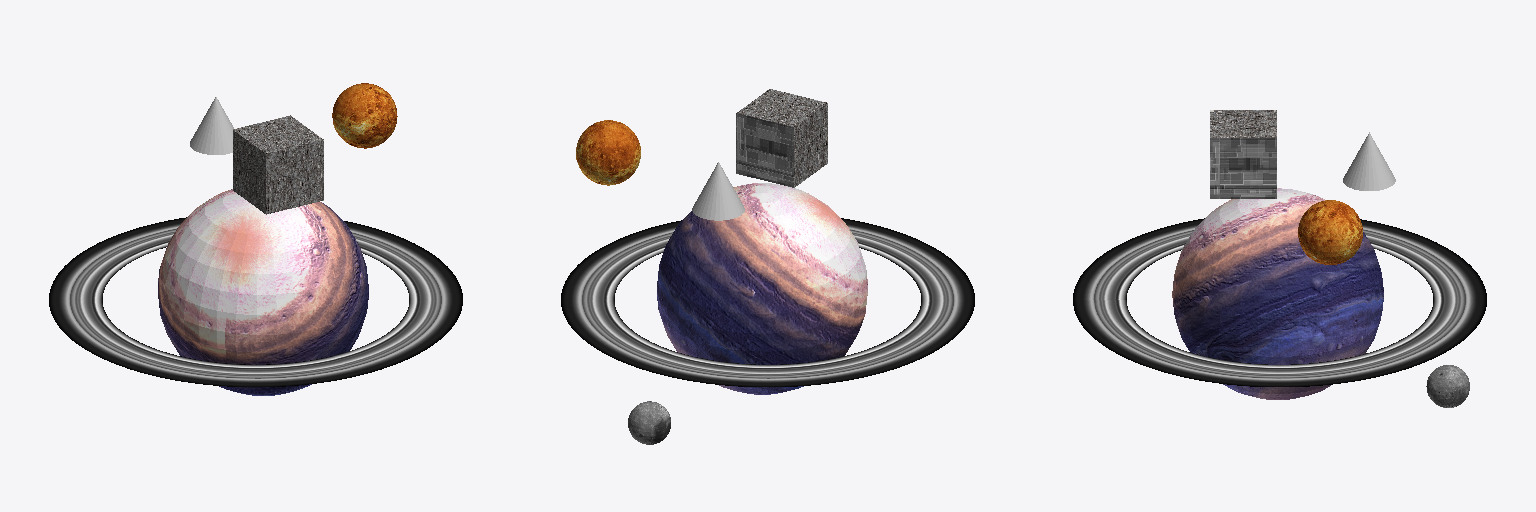
The picture shows the model from 3 angles: view 1: azimuth 30°, elevation 25°; view 2: azimuth 150°, elevation 25°; view 3: azimuth 270°, elevation 25°; orthographic projection.
Parts seen in each view (by area): view 1: Planet_Sphere, Rings_Plance, Spaceship_Cube, Deimios_Moon1, UFO_Cone; view 2: Planet_Sphere, Rings_Plance, Spaceship_Cube, Deimios_Moon1, UFO_Cone, Phobos_Moon2; view 3: Planet_Sphere, Rings_Plance, Spaceship_Cube, Deimios_Moon1, UFO_Cone, Phobos_Moon2.
Part boxes in pixels (x1,y1,x2,y2): Planet_Sphere: (158, 189, 368, 395); Rings_Plance: (49, 217, 462, 386); Spaceship_Cube: (233, 115, 323, 214); Deimios_Moon1: (332, 83, 397, 148); UFO_Cone: (190, 97, 233, 154); Planet_Sphere: (657, 183, 867, 394); Rings_Plance: (561, 218, 974, 386); Spaceship_Cube: (736, 89, 827, 187); Deimios_Moon1: (576, 120, 640, 185); UFO_Cone: (692, 162, 744, 220); Phobos_Moon2: (628, 401, 670, 444); Planet_Sphere: (1172, 188, 1383, 399); Rings_Plance: (1073, 218, 1486, 386); Spaceship_Cube: (1210, 110, 1276, 198); Deimios_Moon1: (1298, 200, 1362, 264); UFO_Cone: (1343, 132, 1395, 190); Phobos_Moon2: (1426, 365, 1469, 407).
Size of the model in its own units: 3.91 by 2.78 by 3.9.
8 materials, 6 textured.